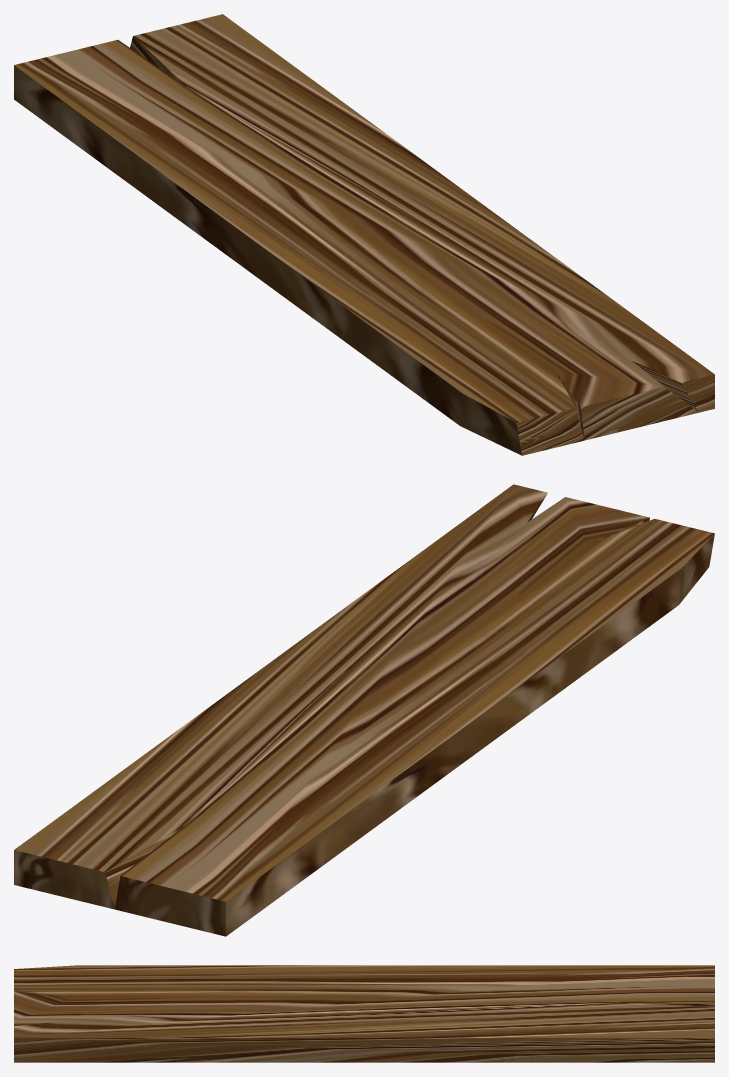
The model's file is Woodboard.fbx.
3 renders of one model, top to bottom at view 1: azimuth 30°, elevation 25°; view 2: azimuth 150°, elevation 25°; view 3: azimuth 270°, elevation 25°, orthographic. The views are drawn at different scales.
Visible parts, largest first — view 1: Cube; view 2: Cube; view 3: Cube.
Boxes of the visible parts, x1,y1,x2,y2 form: Cube: [14, 14, 714, 455]; Cube: [14, 484, 714, 936]; Cube: [14, 965, 714, 1062].
Size of the model in its own units: 49 by 7.72 by 200.
